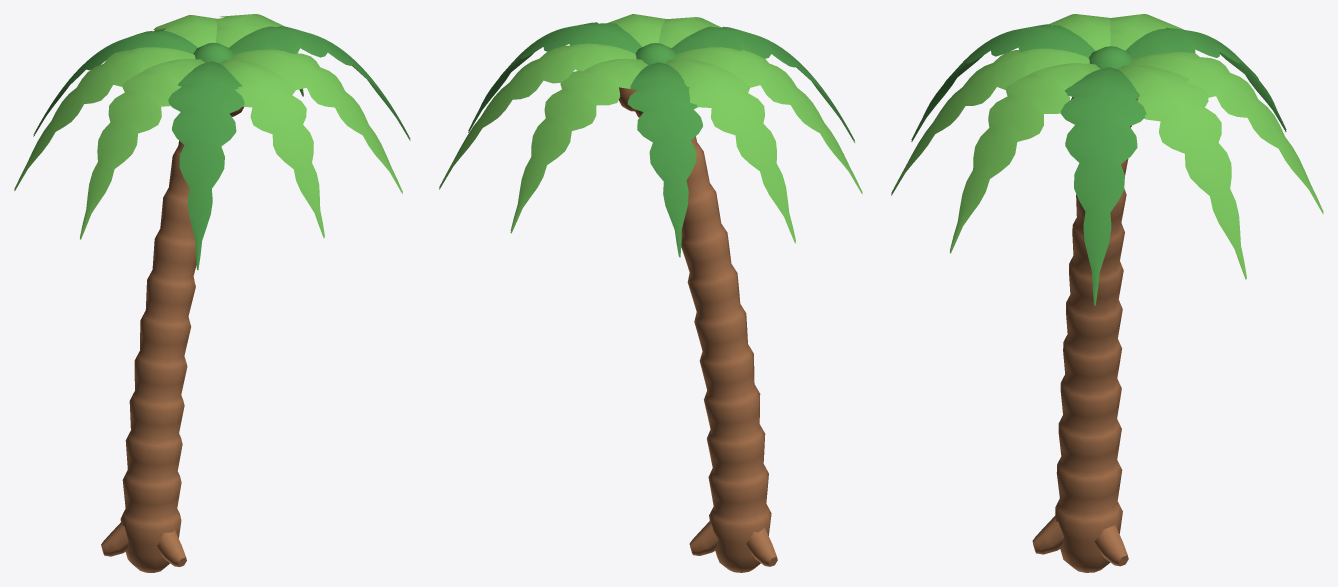
The model's file is prop_palm_big.glb.
The picture shows the model from 3 angles, left to right: view 1: azimuth 30°, elevation 25°; view 2: azimuth 150°, elevation 25°; view 3: azimuth 270°, elevation 25°; orthographic projection. The views are drawn at different scales.
Visible parts, largest first — view 1: prop_palm_big; view 2: prop_palm_big; view 3: prop_palm_big.
Boxes of the visible parts, left/top/right/bottom form: prop_palm_big: left=14, top=14, right=410, bottom=572; prop_palm_big: left=439, top=14, right=862, bottom=572; prop_palm_big: left=891, top=14, right=1323, bottom=572.
Bounding box in the file's own units: 3.54 × 4.74 × 3.3.
